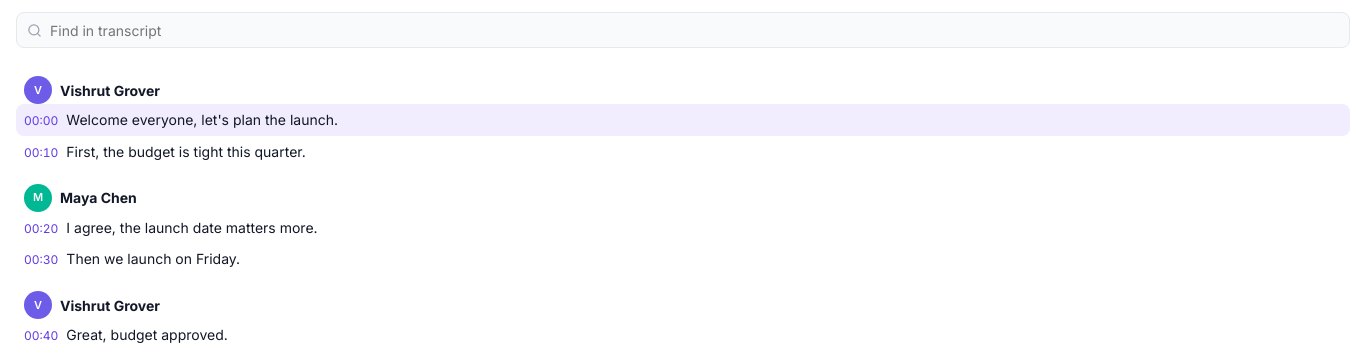
Test: TranscriptPanel › find › highlights matching words, counts matches and scrolls to the first
Expected: the button "00:00Welcome everyone, let's plan the launch." is shown, [16,104,1350,136]
In the field labelled "Find in transcript": [694, 30] box [48,18,1339,42], type "budget"
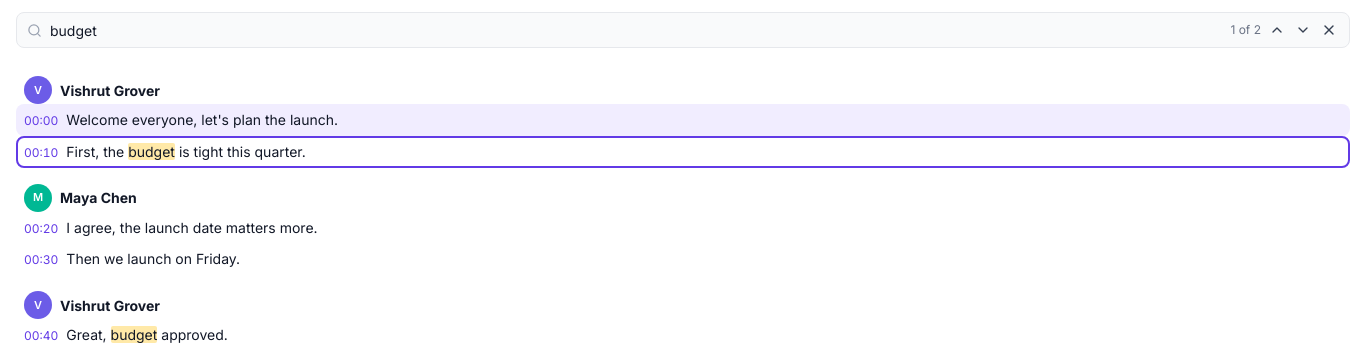
Result: the text "1 of 2" is shown at [1230,21,1261,39]
